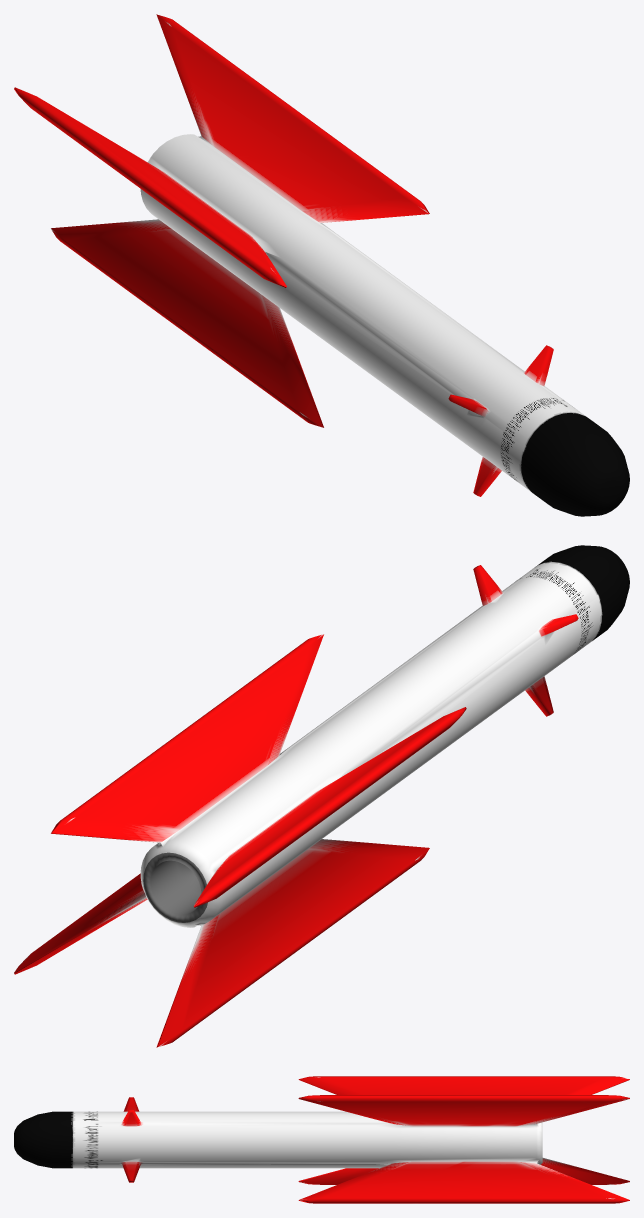
File: The missile knows where it is at all times.fbx
3 renders of one model, top to bottom at view 1: azimuth 30°, elevation 25°; view 2: azimuth 150°, elevation 25°; view 3: azimuth 270°, elevation 25°, orthographic. The views are drawn at different scales.
Visible parts, largest first — view 1: Misile.002; view 2: Misile.002; view 3: Misile.002.
Boxes of the visible parts, box(x1,y1,x2,y2) form: Misile.002: box(14, 14, 629, 516); Misile.002: box(14, 545, 629, 1047); Misile.002: box(14, 1076, 629, 1203).
Bounding box in the file's own units: 92.71 × 92.71 × 431.
